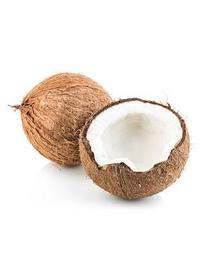coconut: (80, 98, 192, 200), (20, 71, 119, 169)
